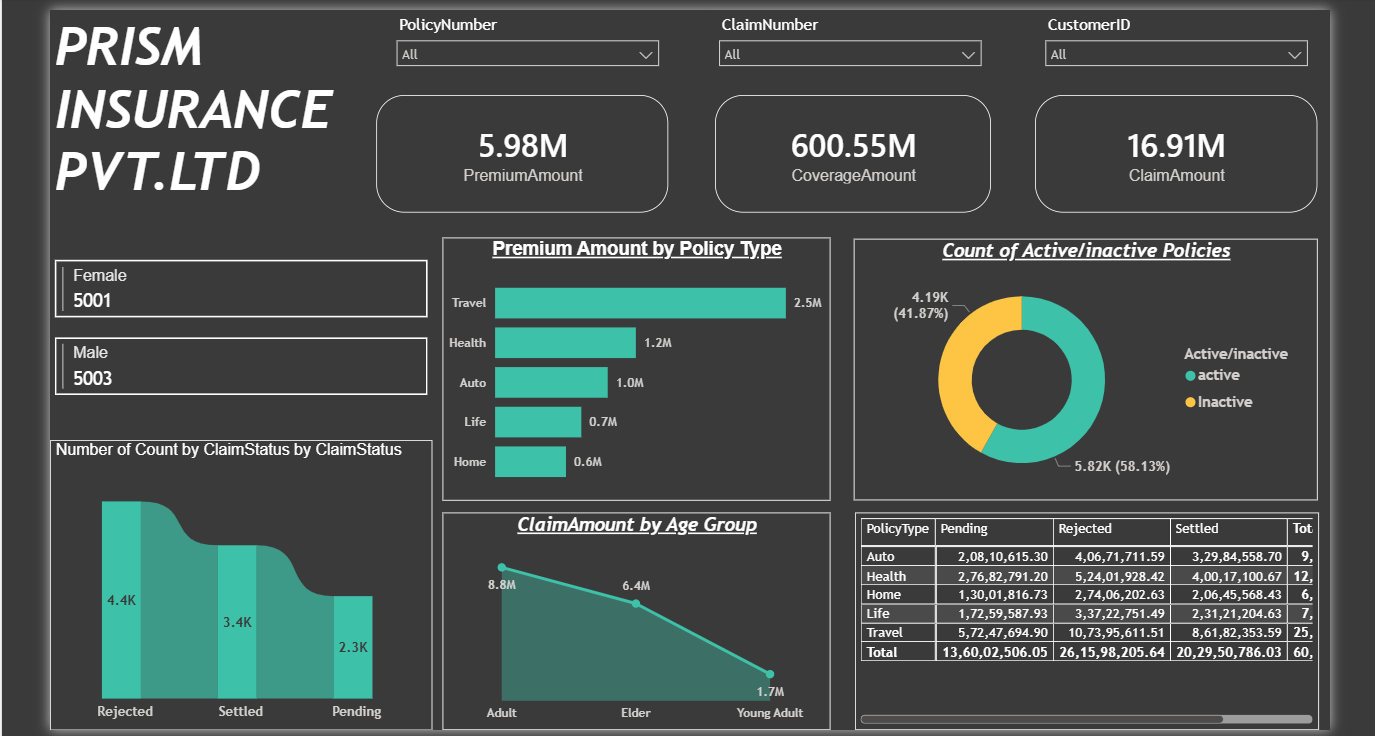

The dashboard page shown, as its layout file describes it:
{"tool":"powerbi","page":{"name":"Page 1","canvas":[1280,720],"ordinal":0},"visuals":[{"type":"slicer","fields":{"Values":["InsuranceData.PolicyNumber"]},"box":[336.3,0,282.5,74.6],"z":0},{"type":"slicer","fields":{"Values":["InsuranceData.ClaimNumber"]},"box":[659.1,0,282.5,74.6],"z":1000},{"type":"slicer","fields":{"Values":["InsuranceData.CustomerID"]},"box":[985.6,0,282.5,74.6],"z":2000},{"type":"textbox","box":[0,0,326.5,203],"z":3000},{"type":"cardVisual","fields":{"Data":["Sum(InsuranceData.PremiumAmount)"]},"box":[326.5,85.6,292.3,117.4],"z":4000},{"type":"cardVisual","fields":{"Data":["Sum(InsuranceData.CoverageAmount)"]},"box":[665.2,85.6,276.4,117.4],"z":5000},{"type":"cardVisual","fields":{"Data":["Sum(InsuranceData.ClaimAmount)"]},"box":[985.6,85.6,282.5,117.4],"z":6000},{"type":"multiRowCard","fields":{"Values":["InsuranceData.Gender","CountNonNull(InsuranceData.Gender)"]},"box":[0,245,382.5,172.5],"z":7000},{"type":"ribbonChart","title":"Number of Count by ClaimStatus by ClaimStatus","fields":{"Category":["InsuranceData.ClaimStatus"],"Y":["CountNonNull(InsuranceData.ClaimStatus)"]},"box":[0,430,382.5,290],"z":8000},{"type":"barChart","title":"Premium Amount by Policy Type","fields":{"Category":["InsuranceData.PolicyType"],"Y":["Sum(InsuranceData.PremiumAmount)"]},"box":[392.5,227.4,387.6,262.9],"z":9000},{"type":"lineChart","title":"ClaimAmount by Age Group","fields":{"Category":["InsuranceData.Age Group"],"Y":["Sum(InsuranceData.ClaimAmount)"]},"box":[392.5,502.6,387.6,217.7],"z":10000},{"type":"donutChart","title":"Count of Active/inactive Policies","fields":{"Category":["InsuranceData.Active/inactive"],"Y":["CountNonNull(InsuranceData.Active/inactive)"]},"box":[803.8,228.8,463.8,261.2],"z":11000},{"type":"pivotTable","fields":{"Values":["Sum(InsuranceData.CoverageAmount)"],"Rows":["InsuranceData.PolicyType"],"Columns":["InsuranceData.ClaimStatus"]},"box":[805,502.5,463.8,217.5],"z":12000}]}

Visuals, with their boxes on the page's 1280x720 design canvas (x1, y1, x2, y2). These are canvas units, not pixel positions in the 1375x736 screenshot, which may show the page scaled, cropped or inside an application window:
slicer - InsuranceData.PolicyNumber: 336,0,619,75
slicer - InsuranceData.ClaimNumber: 659,0,942,75
slicer - InsuranceData.CustomerID: 986,0,1268,75
textbox: 0,0,326,203
cardVisual - Sum(InsuranceData.PremiumAmount): 326,86,619,203
cardVisual - Sum(InsuranceData.CoverageAmount): 665,86,942,203
cardVisual - Sum(InsuranceData.ClaimAmount): 986,86,1268,203
multiRowCard - InsuranceData.Gender x CountNonNull(InsuranceData.Gender): 0,245,382,418
"Number of Count by ClaimStatus by ClaimStatus" ribbonChart: 0,430,382,720
"Premium Amount by Policy Type" barChart: 392,227,780,490
"ClaimAmount by Age Group" lineChart: 392,503,780,720
"Count of Active/inactive Policies" donutChart: 804,229,1268,490
pivotTable - Sum(InsuranceData.CoverageAmount) x InsuranceData.PolicyType: 805,502,1269,720
